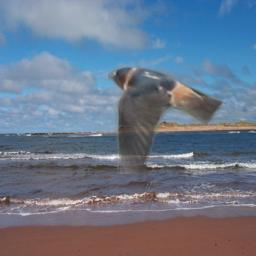Swallow: (108, 62, 226, 174)
